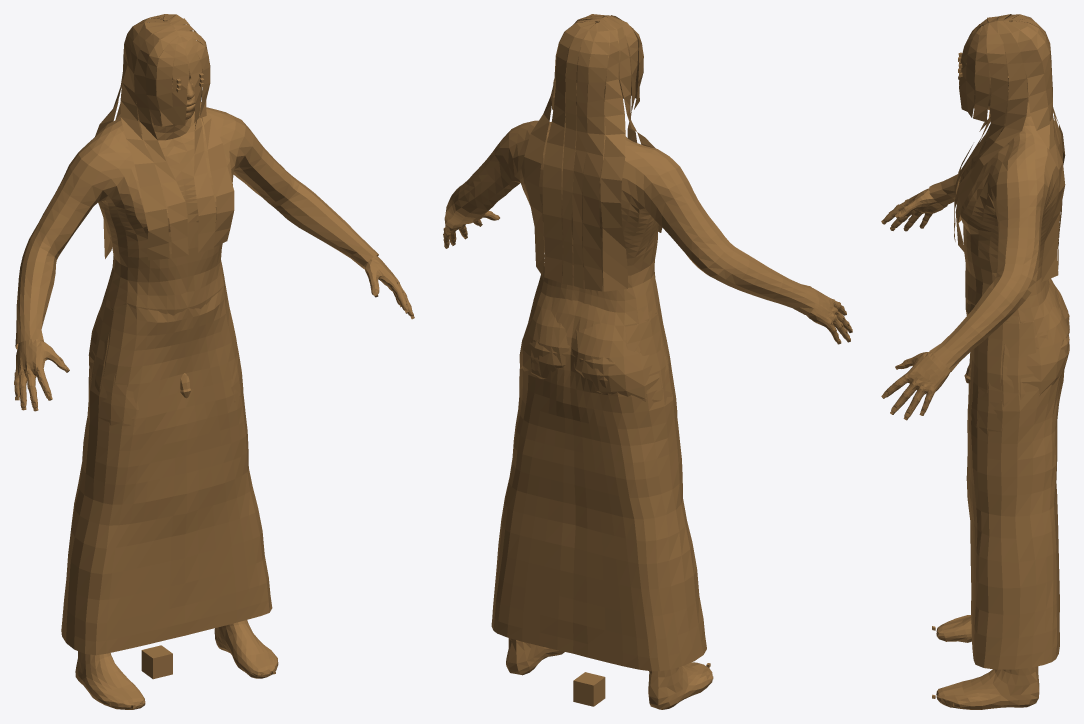
File: gym_avatar_v3.glb
3 views of the same model, side by side, from view 1: azimuth 30°, elevation 25°; view 2: azimuth 150°, elevation 25°; view 3: azimuth 270°, elevation 25° (orthographic). The views are drawn at different scales.
Parts seen in each view (by area): view 1: Human; view 2: Human; view 3: Human.
Boxes of the visible parts, x1,y1,x2,y2 form: Human: (14, 14, 414, 709); Human: (443, 14, 852, 709); Human: (881, 14, 1069, 709).
Size of the model in its own units: 1.05 by 1.69 by 0.4389.
